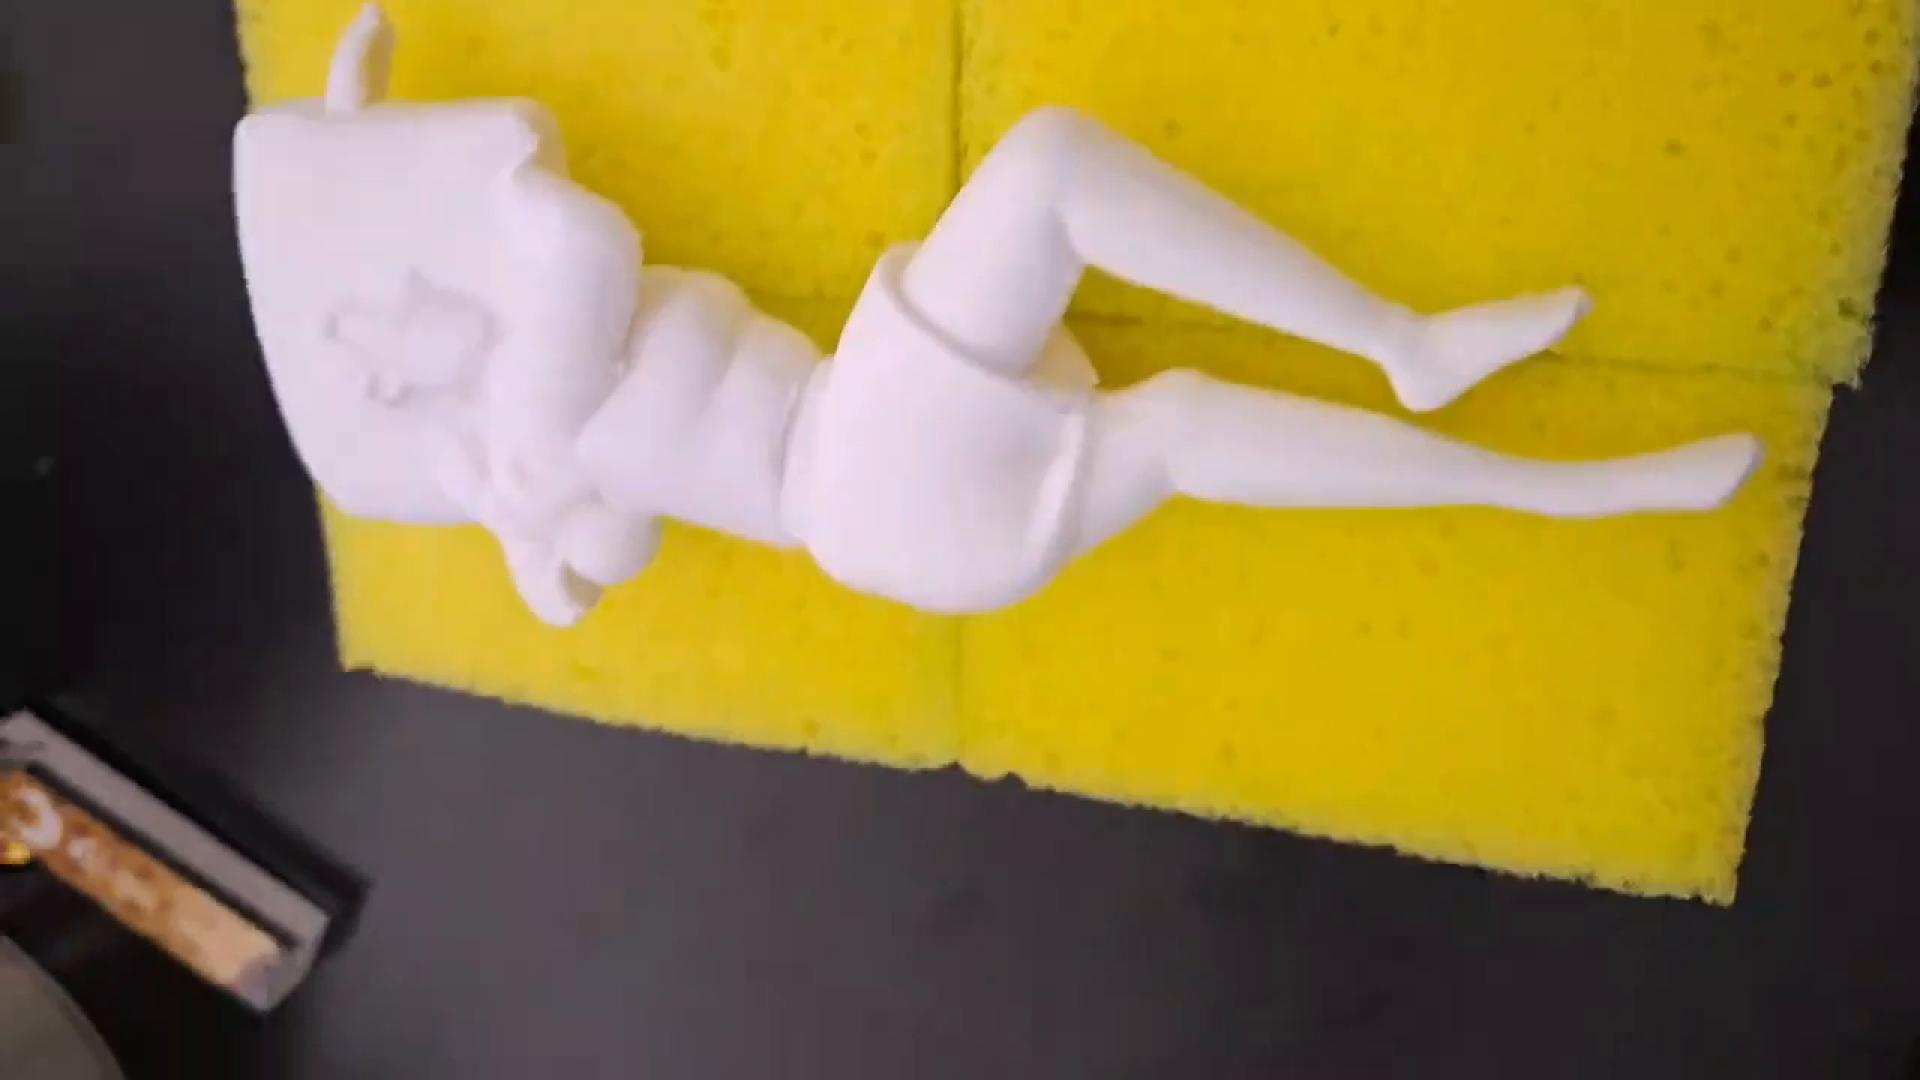Good-style: (173, 0, 1817, 705)
